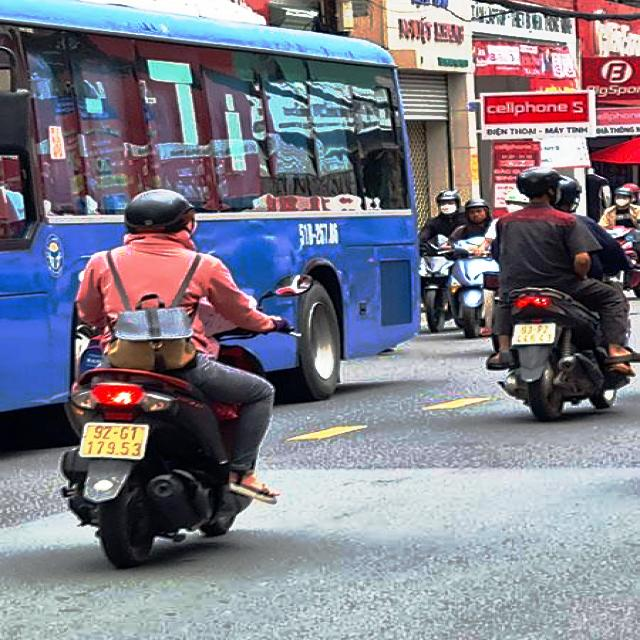license_plate: (77, 422, 150, 461), (512, 323, 557, 348)
